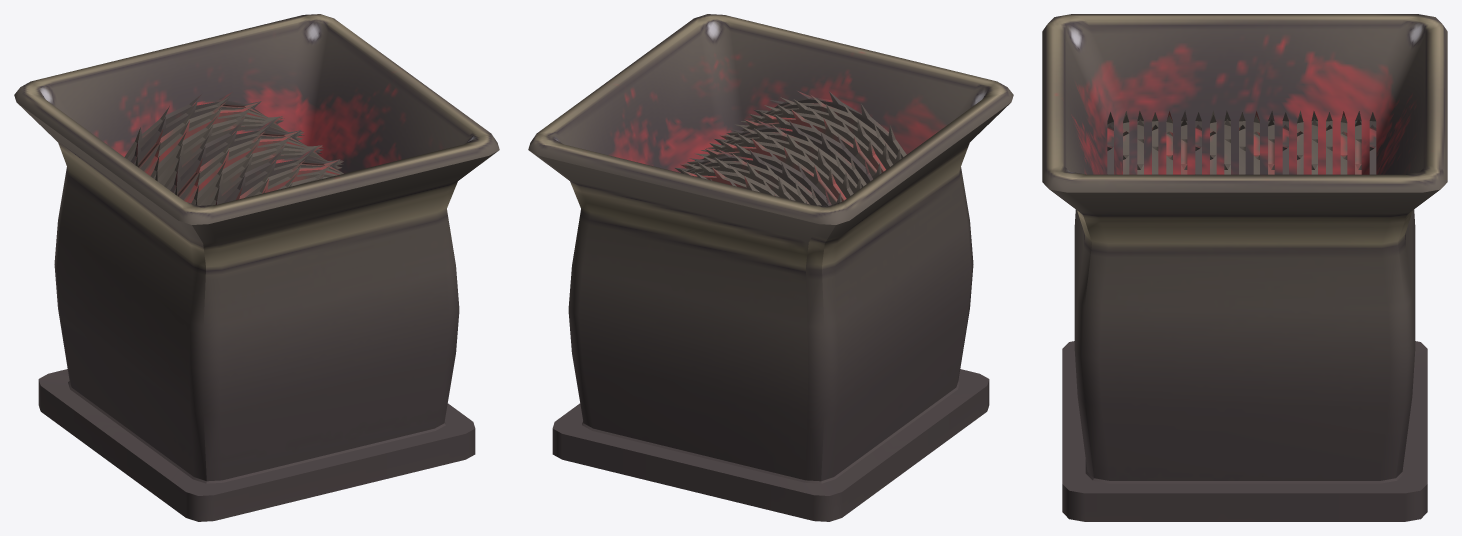
File: SK_meatgrinder.fbx
3 views of the same model, side by side, from view 1: azimuth 30°, elevation 25°; view 2: azimuth 150°, elevation 25°; view 3: azimuth 270°, elevation 25° (orthographic). The views are drawn at different scales.
Visible parts, largest first — view 1: pCylinder22; view 2: pCylinder22; view 3: pCylinder22.
Part boxes in pixels (x1,y1,x2,y2): pCylinder22: (14,14,499,521); pCylinder22: (528,14,1013,521); pCylinder22: (1042,14,1447,521).
Size of the model in its own units: 8.42 by 7.95 by 8.42.
